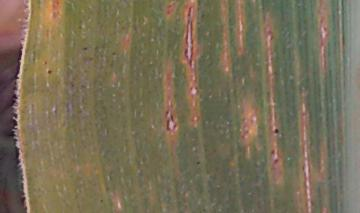tarspot: (272, 156, 282, 168), (268, 149, 277, 158), (273, 126, 281, 136), (45, 69, 55, 76), (82, 45, 90, 52), (194, 159, 201, 166), (100, 198, 106, 206), (43, 60, 49, 67), (111, 52, 117, 57)
